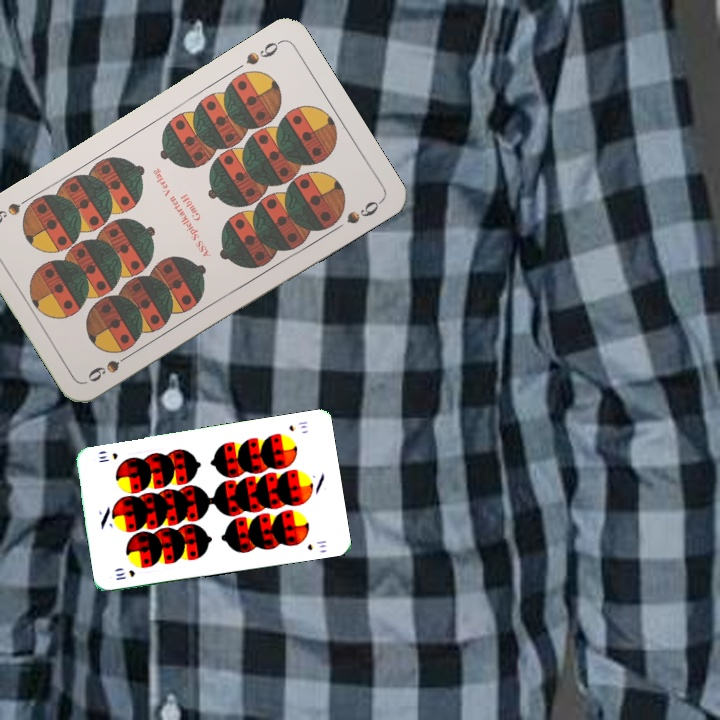S10: (112, 566, 138, 583), (285, 417, 310, 434)
S9: (84, 348, 137, 385), (241, 36, 284, 68)
